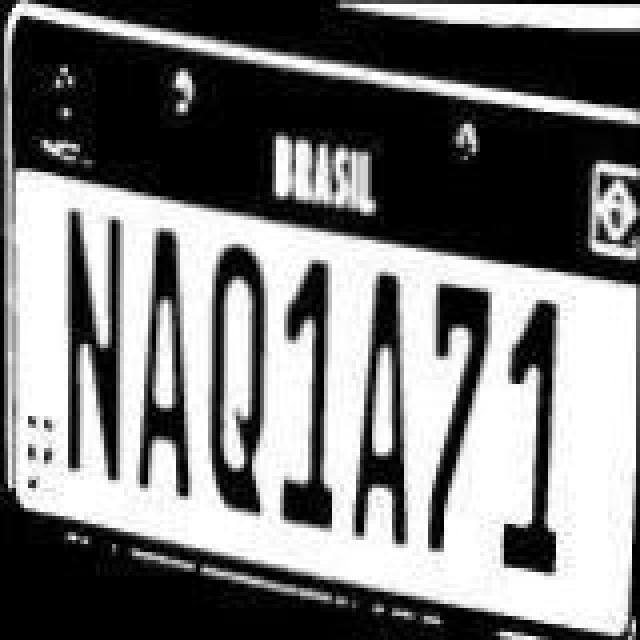1: (510, 290, 574, 590), (280, 256, 340, 532)
7: (434, 272, 498, 564)
A: (132, 216, 200, 504), (354, 264, 418, 556)
N: (56, 202, 124, 494)
Q: (212, 246, 272, 526)
